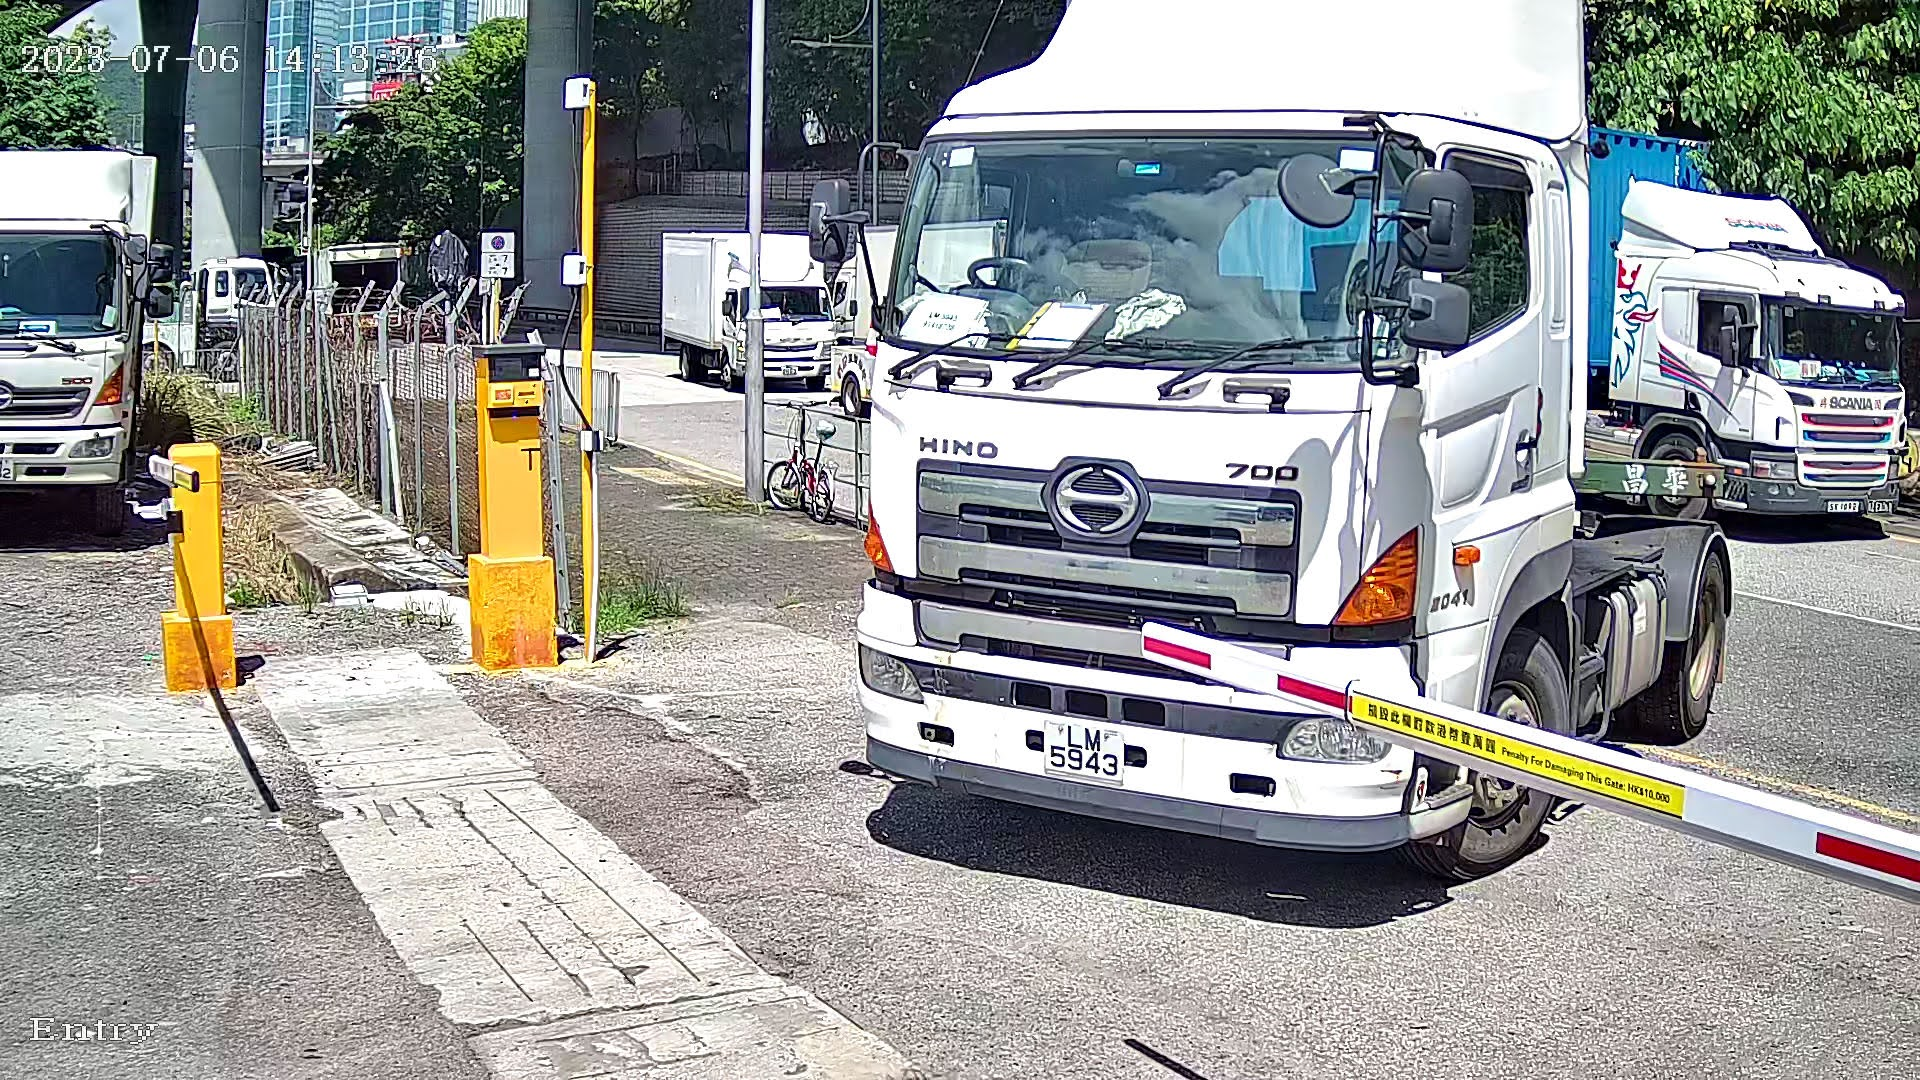tractor: (814, 1, 1815, 913)
